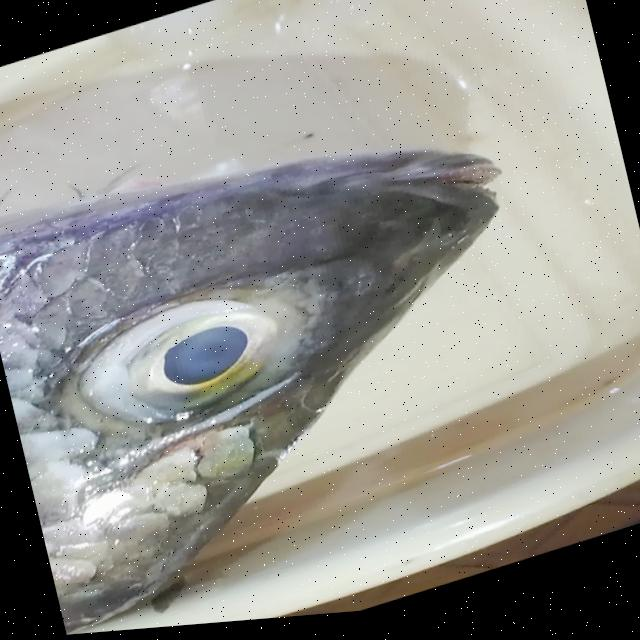Fresh: (46, 254, 319, 465)
